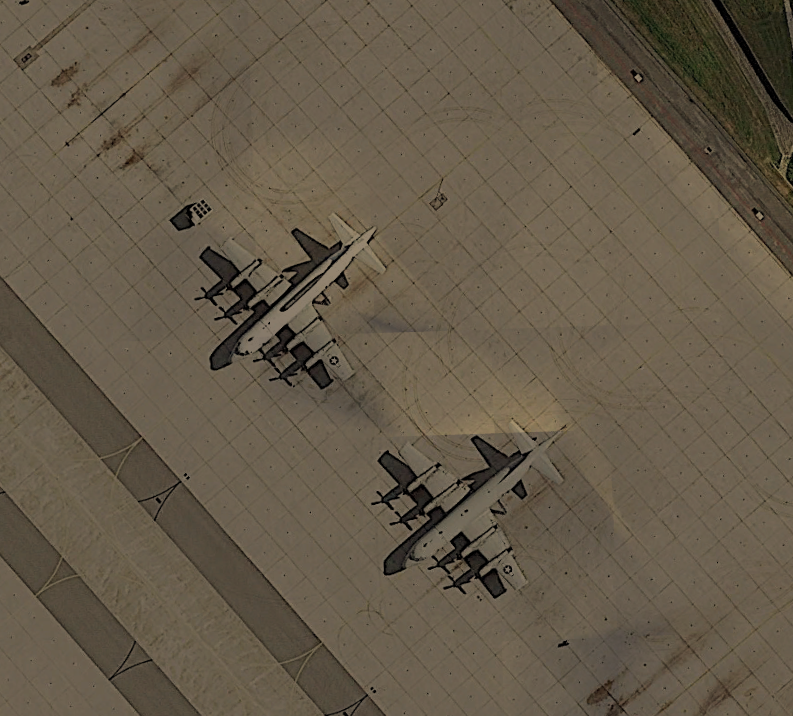A9: (388, 414, 574, 600), (207, 208, 388, 391)
